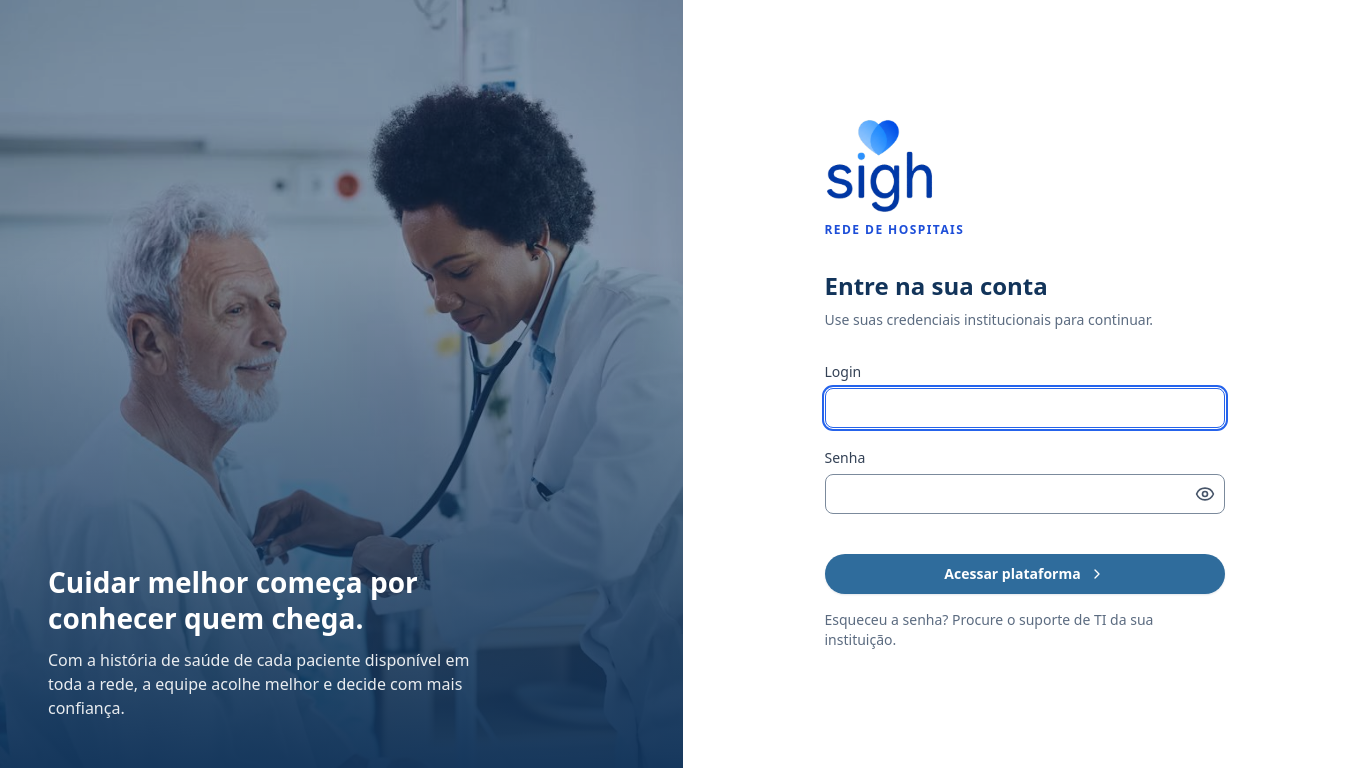
Test: primeiro acesso com senha temporária › o login leva à troca de senha e, sem segundo fator, abre o sistema
In the field labelled "Login": point(1024, 408) [824, 388, 1224, 428], type "adm.novo"
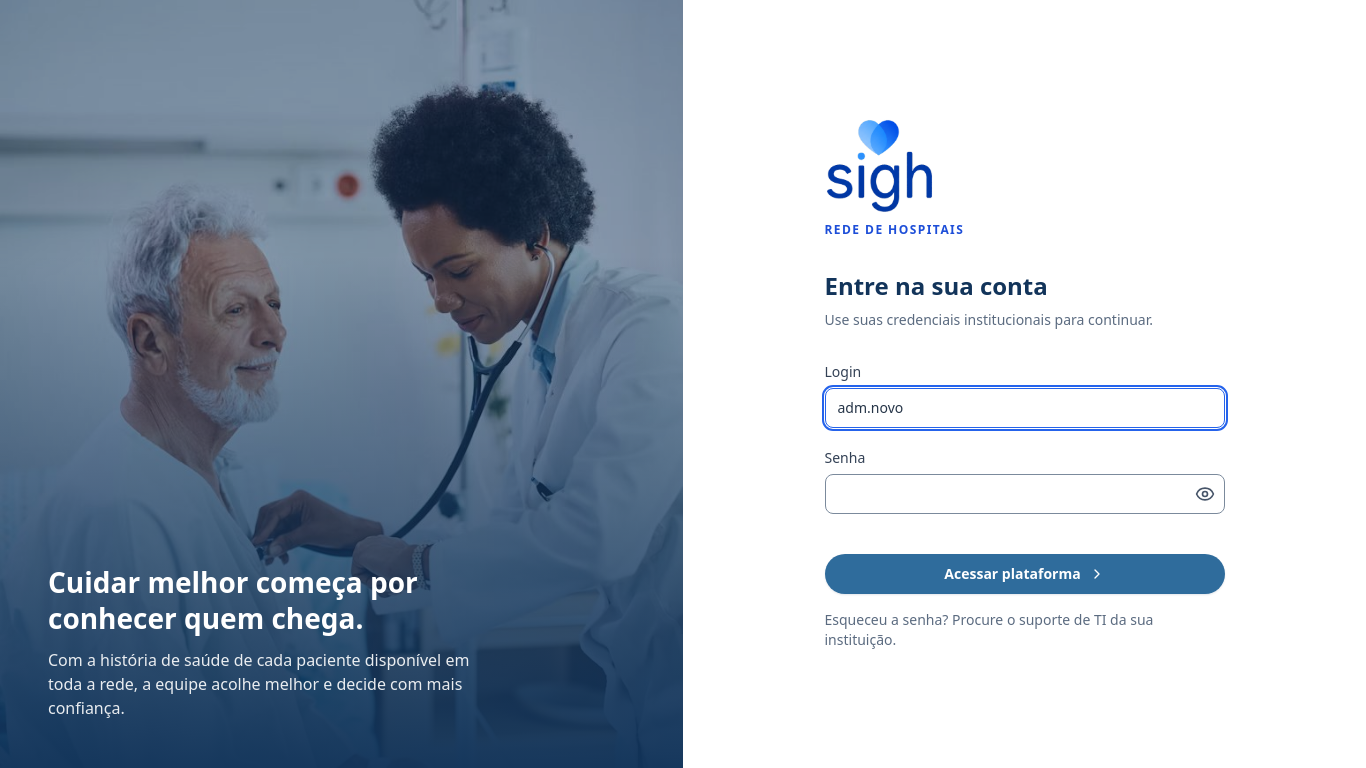
In the password field labelled "Senha": point(1024, 494) [824, 474, 1224, 514], type "Temporaria2026Ab"
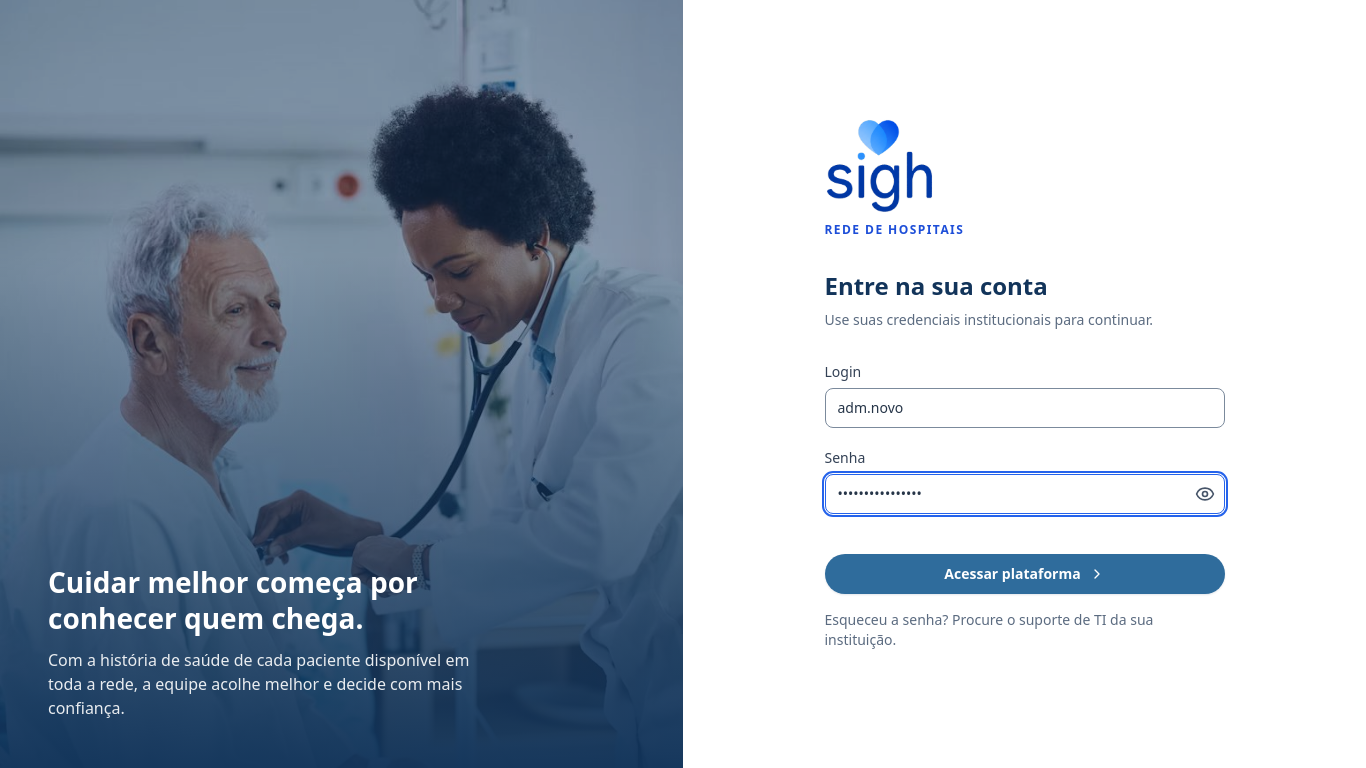
Click the button "Acessar plataforma": point(1024, 574) [824, 554, 1224, 594]
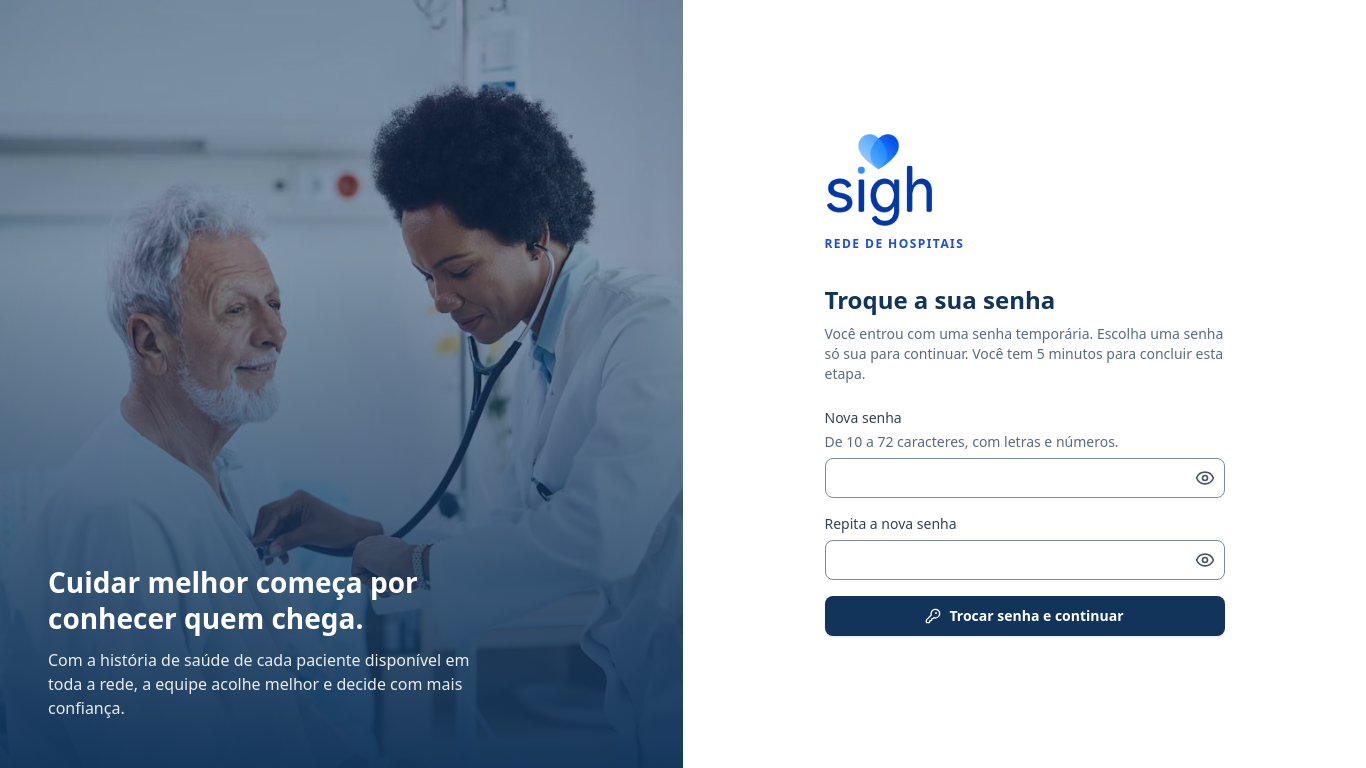
Now the heading "Troque a sua senha" is shown, box [824, 283, 1055, 316]
In the password field labelled "Nova senha": point(1024, 478) [824, 458, 1224, 498], type "SenhaNova2026"
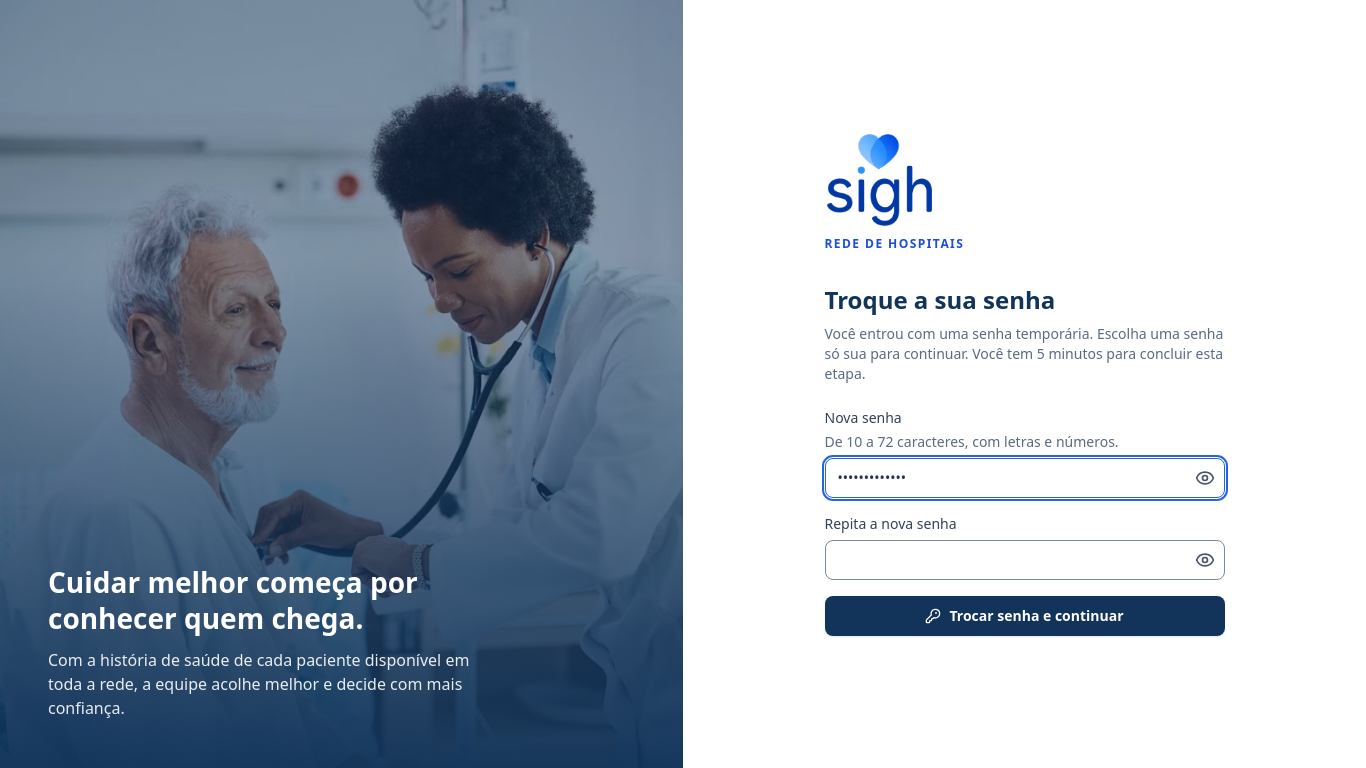
In the password field labelled "Repita a nova senha": point(1024, 560) [824, 540, 1224, 580], type "SenhaNova2026"
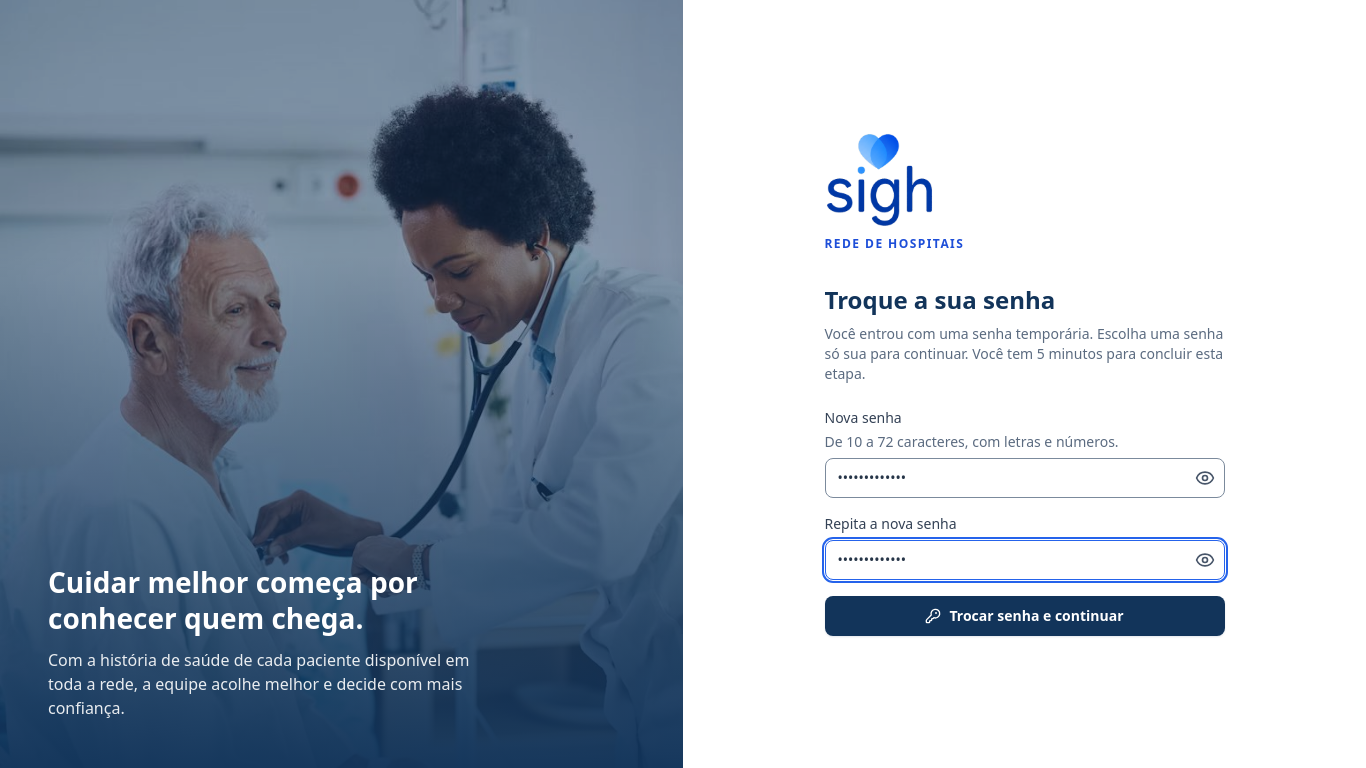
Click the button "Trocar senha e continuar": point(1024, 616) [824, 596, 1224, 636]
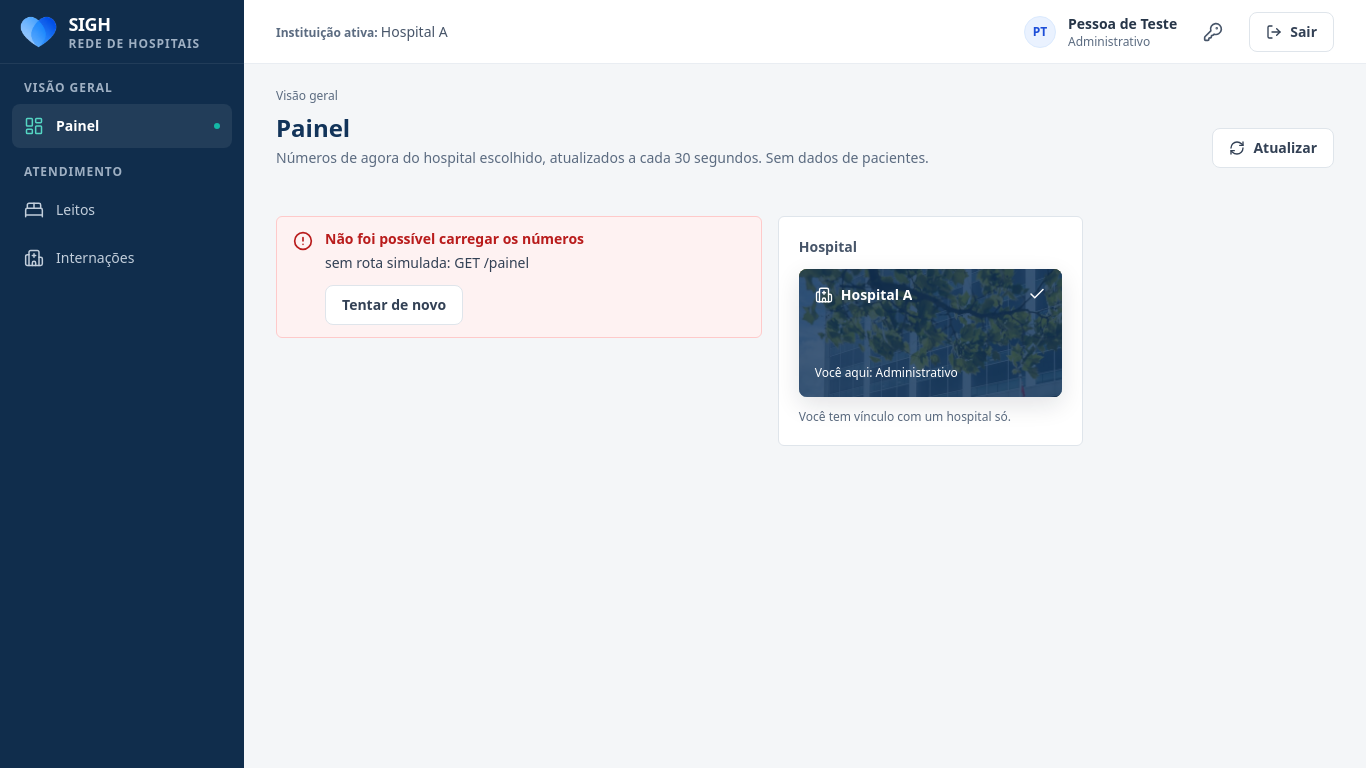
Now the heading "Painel" is shown, box [276, 111, 350, 144]
